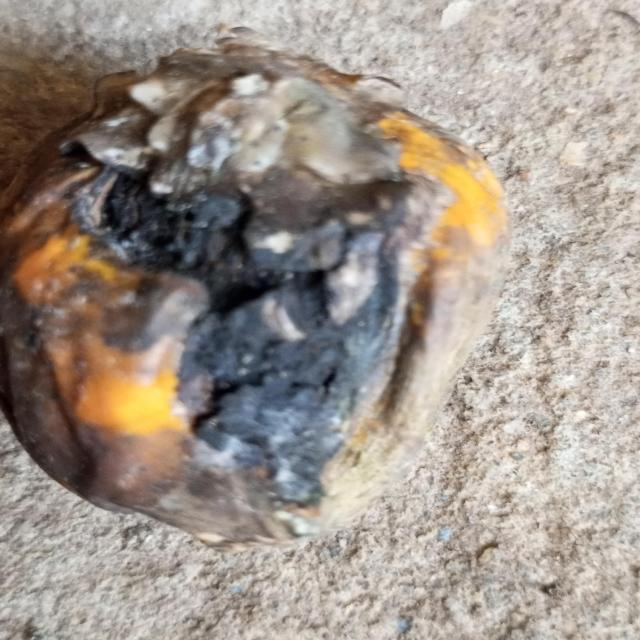damaged: (0, 29, 509, 549)
